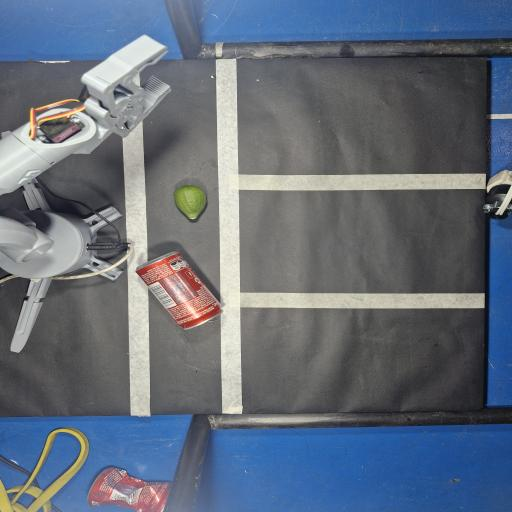higo: (174, 185, 206, 220)
lata: (136, 252, 222, 329)
